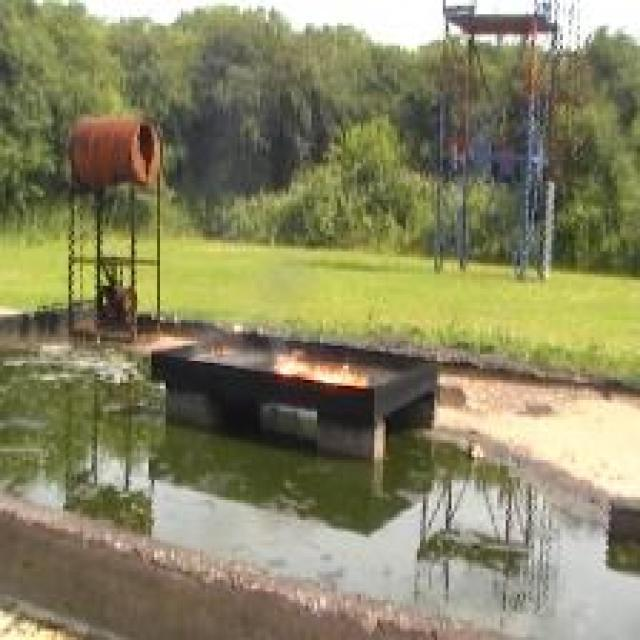Fire: (272, 350, 368, 387)
